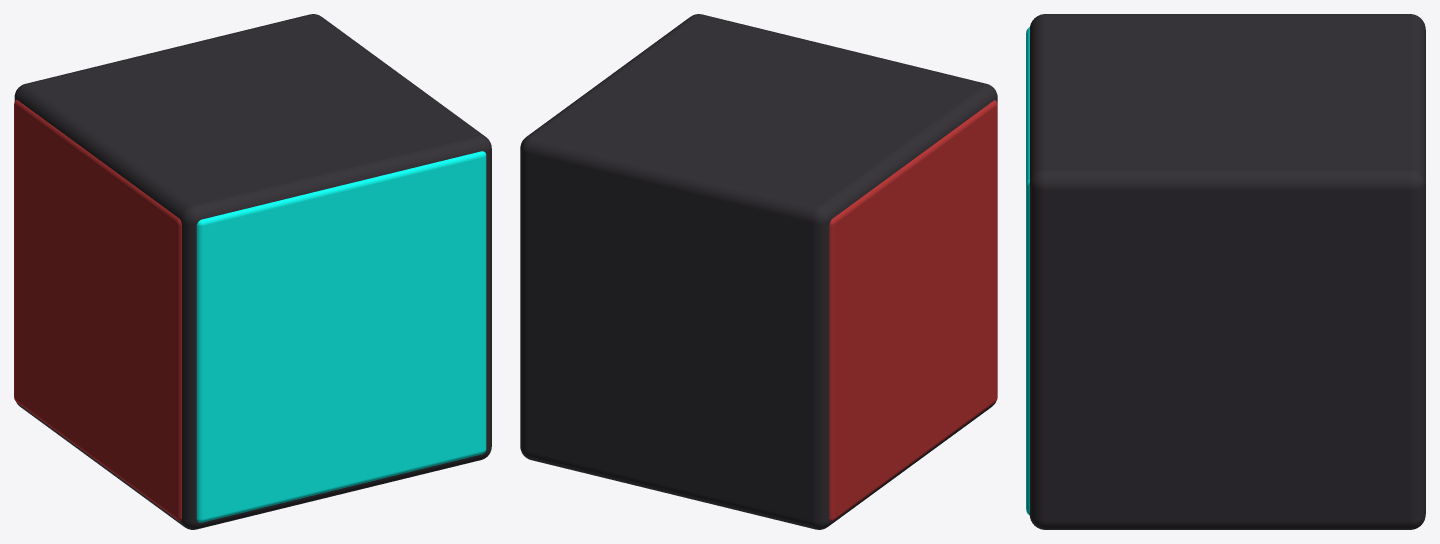
Rendered from rbEdge.obj.
3 renders of one model, left to right at view 1: azimuth 30°, elevation 25°; view 2: azimuth 150°, elevation 25°; view 3: azimuth 270°, elevation 25°, orthographic. The views are drawn at different scales.
Parts seen in each view (by area): view 1: 002_blue_(face), 000_Base, 001_red; view 2: 000_Base, 001_red; view 3: 000_Base, 002_blue_(face).
Part boxes in pixels (x1,y1,x2,y2): 002_blue_(face): (196,151,486,522); 000_Base: (14,14,491,529); 001_red: (14,99,181,521); 000_Base: (520,14,997,529); 001_red: (829,100,997,521); 000_Base: (1029,14,1425,529); 002_blue_(face): (1026,27,1029,514).
Size of the model in its own units: 101 by 100 by 101.
